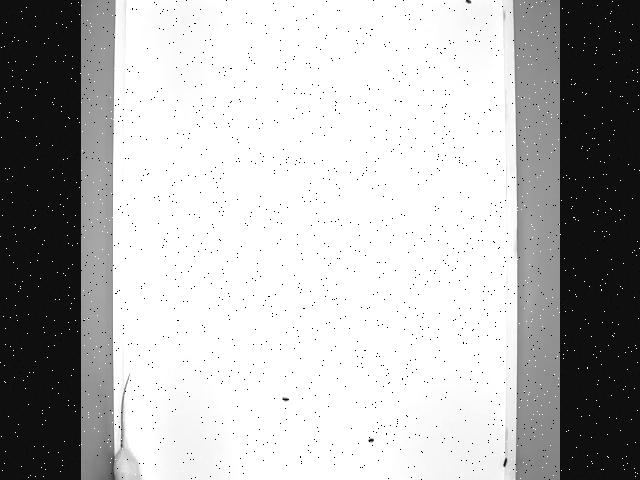Tikus: (112, 368, 149, 480)
